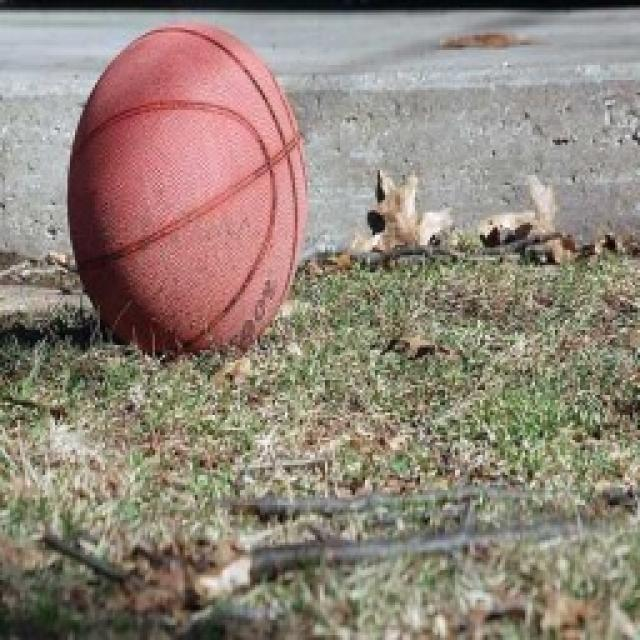rim: (62, 17, 317, 364)
